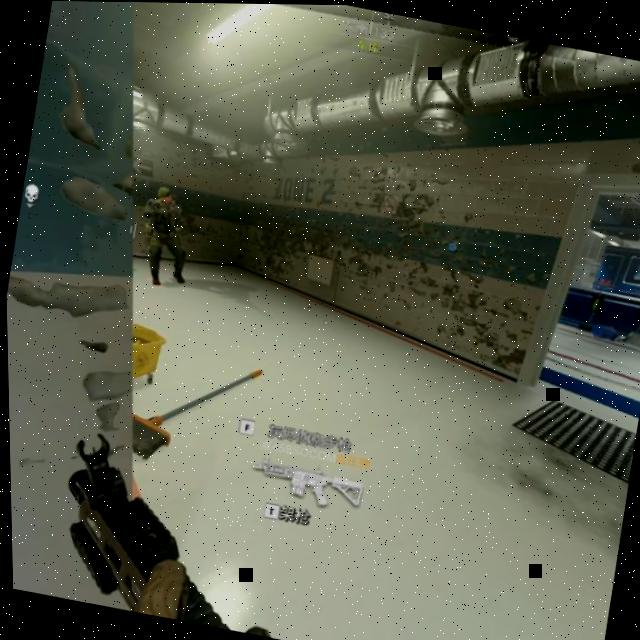MW2_body: (128, 183, 199, 290)
